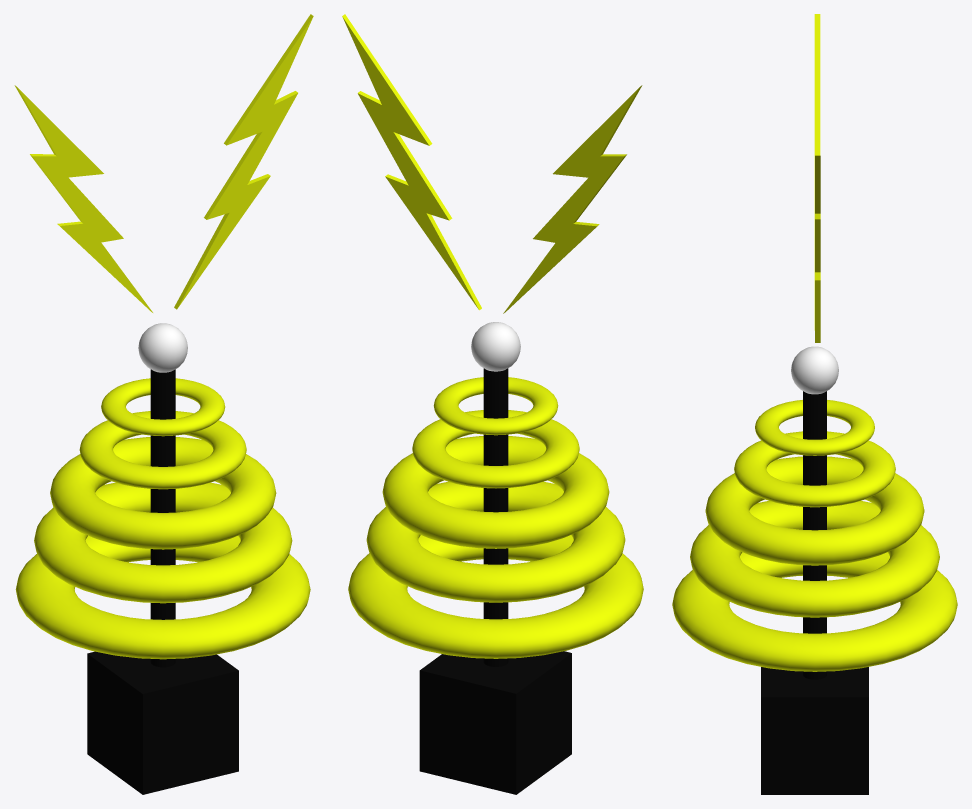
The model's file is UpperPowerplant.fbx.
The picture shows the model from 3 angles, left to right: view 1: azimuth 30°, elevation 25°; view 2: azimuth 150°, elevation 25°; view 3: azimuth 270°, elevation 25°; orthographic projection. The views are drawn at different scales.
Visible parts, largest first — view 1: Würfel, Ring_3, Ring_4, Ring_2, Ring_1, Deckfläche_1_2, Deckfläche_2, Ring, Zylinder, Kugel, Extrude_NURBS, Extrude_NURBS_1_2; view 2: Würfel, Ring_3, Ring_4, Ring_2, Ring_1, Deckfläche_2_2, Deckfläche_1, Ring, Zylinder, Kugel, Extrude_NURBS, Extrude_NURBS_1_2; view 3: Ring_3, Ring_4, Würfel, Ring_2, Ring_1, Ring, Zylinder, Kugel, Extrude_NURBS_1_2, Extrude_NURBS.
Part boxes in pixels (x1=…): Würfel: x1=87, y1=651, x2=238, y2=794; Ring_3: x1=15, y1=535, x2=310, y2=659; Ring_4: x1=34, y1=482, x2=292, y2=603; Ring_2: x1=50, y1=437, x2=276, y2=549; Ring_1: x1=79, y1=411, x2=246, y2=489; Deckfläche_1_2: x1=177, y1=17, x2=312, y2=308; Deckfläche_2: x1=18, y1=88, x2=152, y2=312; Ring: x1=101, y1=378, x2=225, y2=436; Zylinder: x1=150, y1=369, x2=175, y2=667; Kugel: x1=138, y1=323, x2=187, y2=372; Extrude_NURBS: x1=174, y1=14, x2=313, y2=309; Extrude_NURBS_1_2: x1=14, y1=85, x2=152, y2=312; Würfel: x1=419, y1=651, x2=571, y2=794; Ring_3: x1=348, y1=535, x2=643, y2=658; Ring_4: x1=366, y1=481, x2=625, y2=602; Ring_2: x1=382, y1=436, x2=609, y2=548; Ring_1: x1=412, y1=410, x2=579, y2=488; Deckfläche_2_2: x1=342, y1=17, x2=478, y2=309; Deckfläche_1: x1=503, y1=88, x2=638, y2=313; Ring: x1=433, y1=377, x2=558, y2=435; Zylinder: x1=483, y1=368, x2=508, y2=666; Kugel: x1=471, y1=322, x2=520, y2=371; Extrude_NURBS: x1=342, y1=14, x2=481, y2=310; Extrude_NURBS_1_2: x1=504, y1=85, x2=642, y2=312; Ring_3: x1=672, y1=552, x2=957, y2=671; Ring_4: x1=690, y1=501, x2=939, y2=617; Würfel: x1=761, y1=667, x2=868, y2=794; Ring_2: x1=705, y1=456, x2=924, y2=565; Ring_1: x1=734, y1=431, x2=895, y2=507; Ring: x1=755, y1=400, x2=874, y2=455; Zylinder: x1=803, y1=391, x2=826, y2=679; Kugel: x1=791, y1=346, x2=838, y2=394; Extrude_NURBS_1_2: x1=814, y1=14, x2=820, y2=330; Extrude_NURBS: x1=815, y1=155, x2=820, y2=342.
Bounding box in the file's own units: 1378 × 3160 × 1187.
